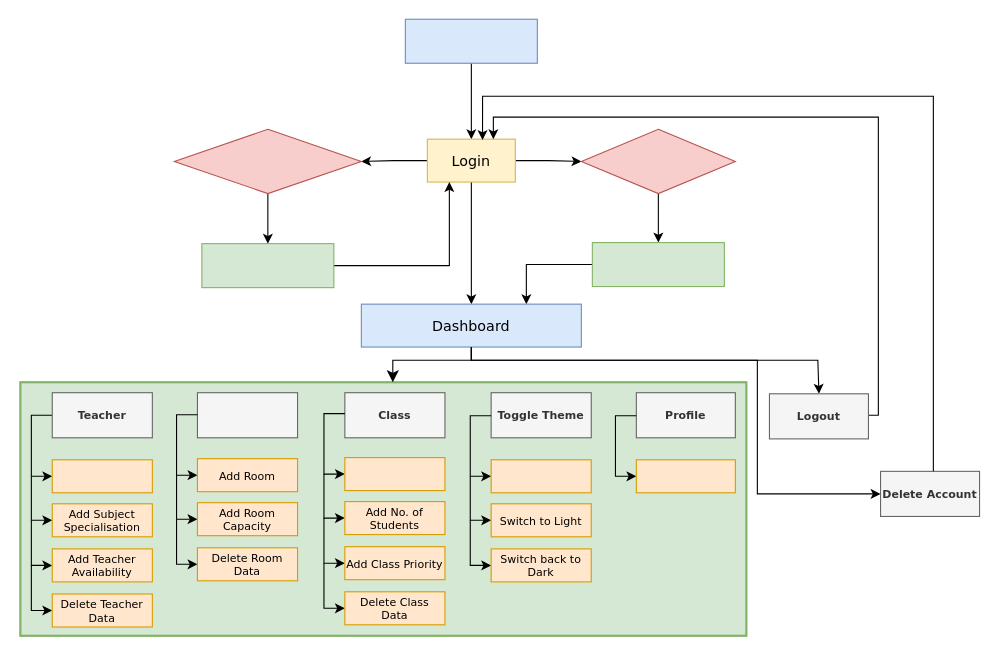
The diagram is 999 pixels wide and 656 high, and some of its shapes have lost their labels. The shapes that lost their labels are listed below. From the top down, each one's box as (x1, y1, x2, y2) in pixels, then its label:
(404, 18, 537, 63): Admin
(173, 128, 361, 194): If INCORRECT password
(580, 128, 735, 194): If INVALID email
(201, 243, 334, 288): Reset Password
(591, 241, 724, 287): Signup
(196, 392, 298, 438): Room
(51, 459, 152, 493): Add Teacher
(344, 457, 445, 491): Add Subject
(490, 459, 591, 493): By default Dark
(635, 459, 735, 493): Edit Username
